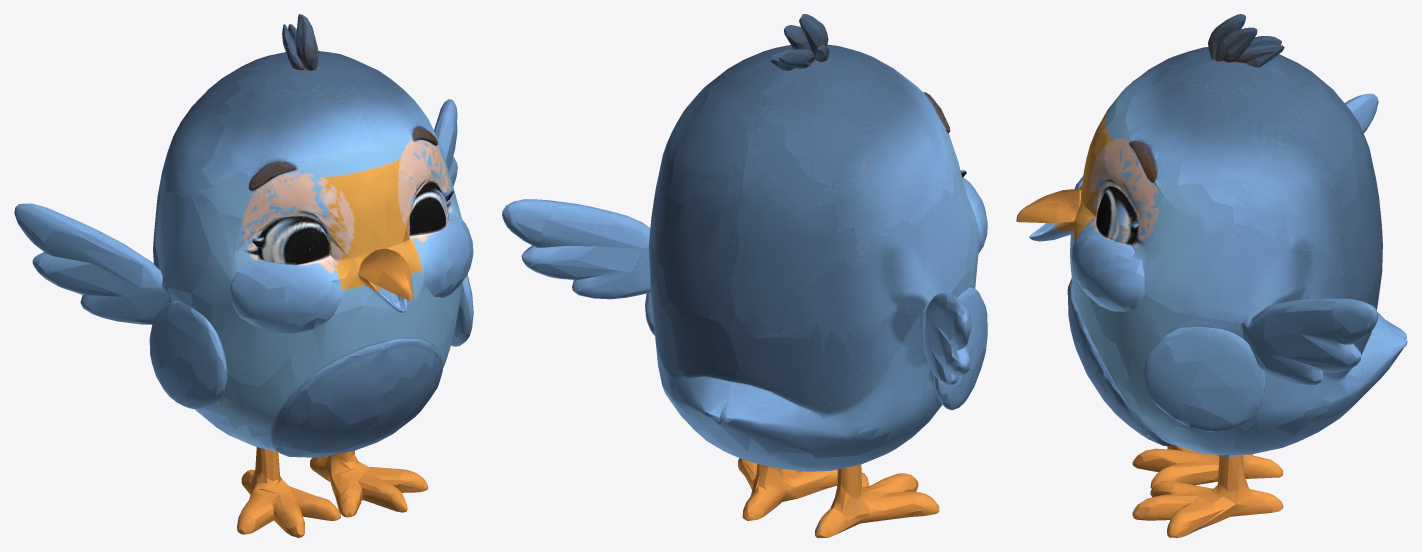
The model's file is bird.ff90b504.glb.
3 renders of one model, left to right at view 1: azimuth 30°, elevation 25°; view 2: azimuth 150°, elevation 25°; view 3: azimuth 270°, elevation 25°, orthographic. The views are drawn at different scales.
Parts seen in each view (by area): view 1: output_unwrapped; view 2: output_unwrapped; view 3: output_unwrapped.
Part boxes in pixels (x1,y1,x2,y2): output_unwrapped: (14,14,473,537); output_unwrapped: (502,14,987,537); output_unwrapped: (1016,14,1407,537).
Bounding box in the file's own units: 1.85 × 1.9 × 1.41.
Materials: 1 (1 with a texture image).
